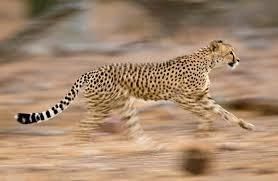Non_Gorille: (48, 28, 273, 138)
